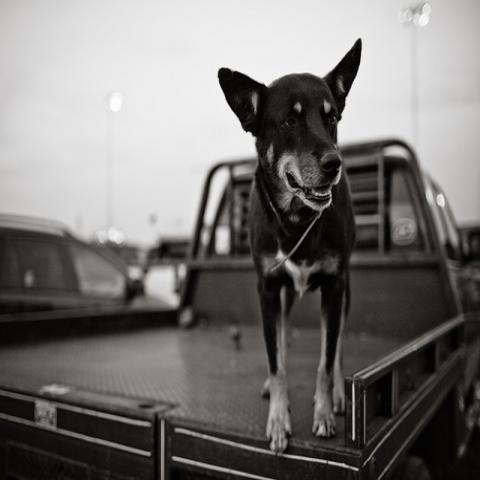truck: (2, 144, 480, 479), (1, 210, 174, 322), (140, 236, 200, 314)
